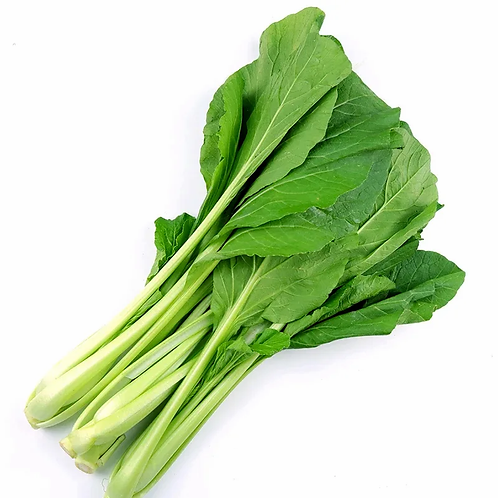Sawi: (45, 16, 481, 488)
